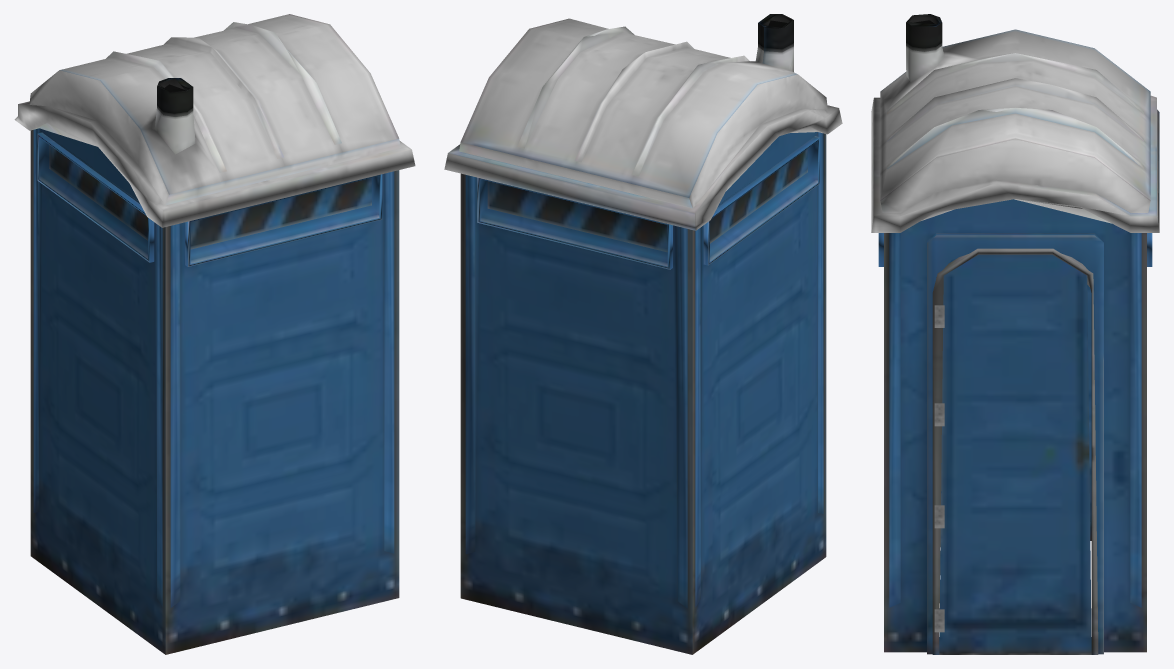
The model's file is porta-potty.lod1.glb.
3 renders of one model, left to right at view 1: azimuth 30°, elevation 25°; view 2: azimuth 150°, elevation 25°; view 3: azimuth 270°, elevation 25°, orthographic. The views are drawn at different scales.
Visible parts, largest first — view 1: defaultMaterial; view 2: defaultMaterial; view 3: defaultMaterial.
Boxes of the visible parts, x1=… form: defaultMaterial: x1=14, y1=14, x2=415, y2=654; defaultMaterial: x1=444, y1=14, x2=842, y2=654; defaultMaterial: x1=871, y1=14, x2=1159, y2=654.
Size of the model in its own units: 0.968 by 2 by 0.9775.
Materials: 1 (1 with a texture image).
